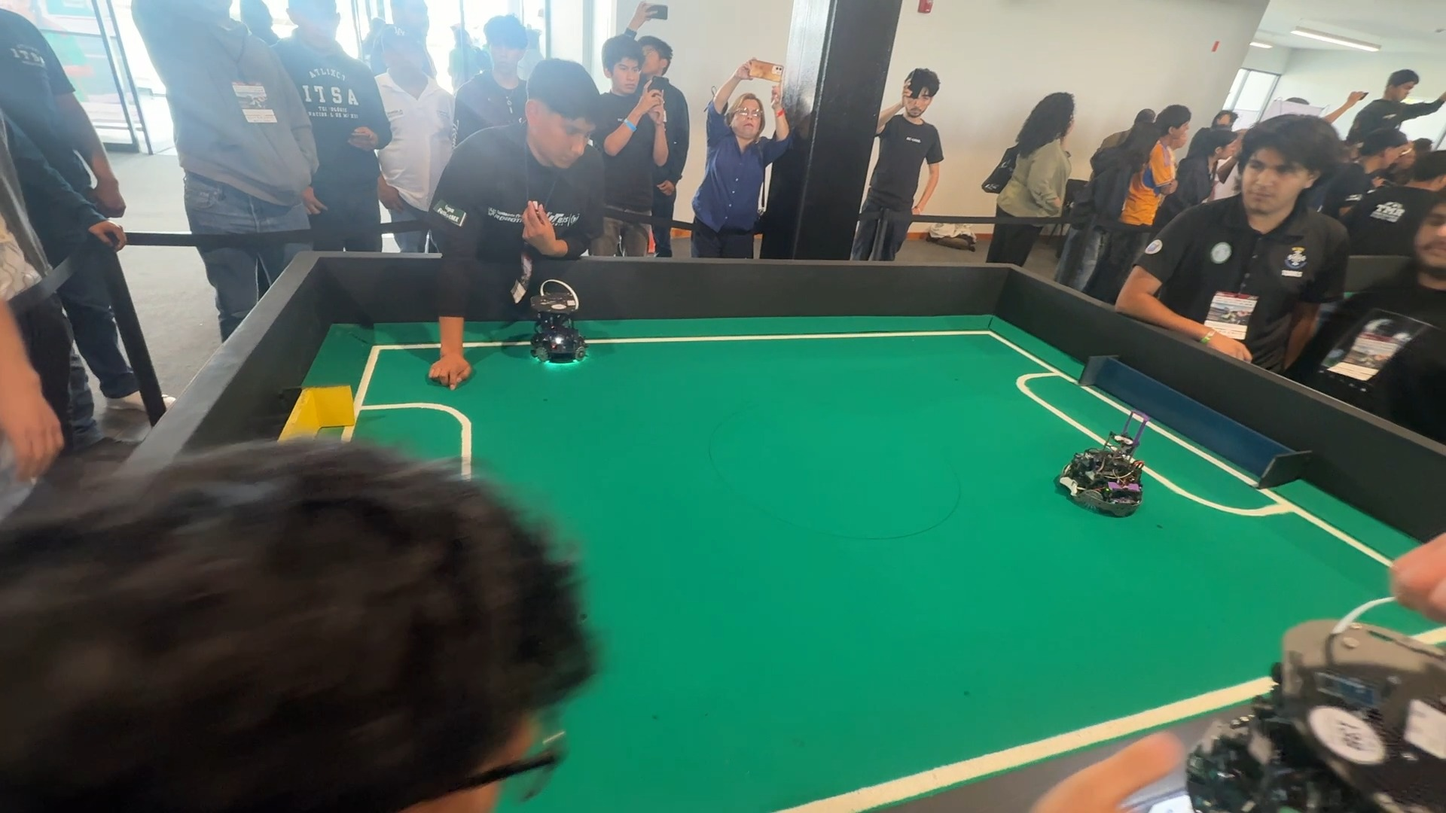Robot: (1144, 580, 1440, 811), (1051, 419, 1175, 528), (507, 275, 599, 379)
